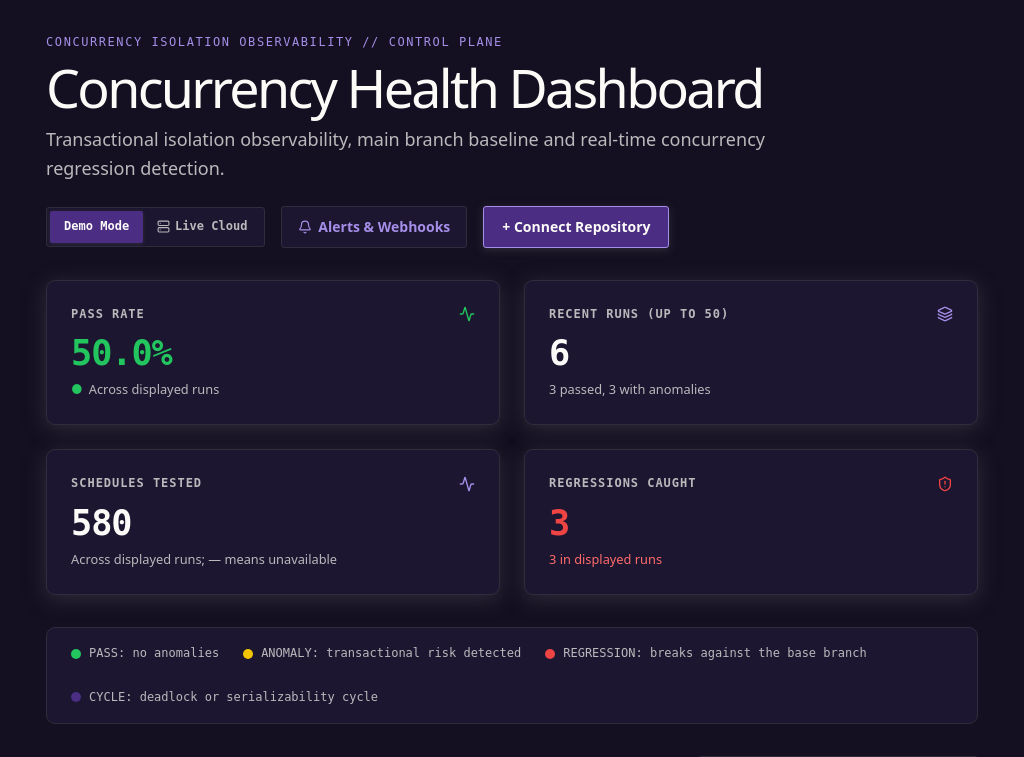
Test: live dashboard › shows HTTP 401 without retaining demo runs
Click the button "Live Cloud" at (202, 227), box left=143, top=211, right=261, bottom=243
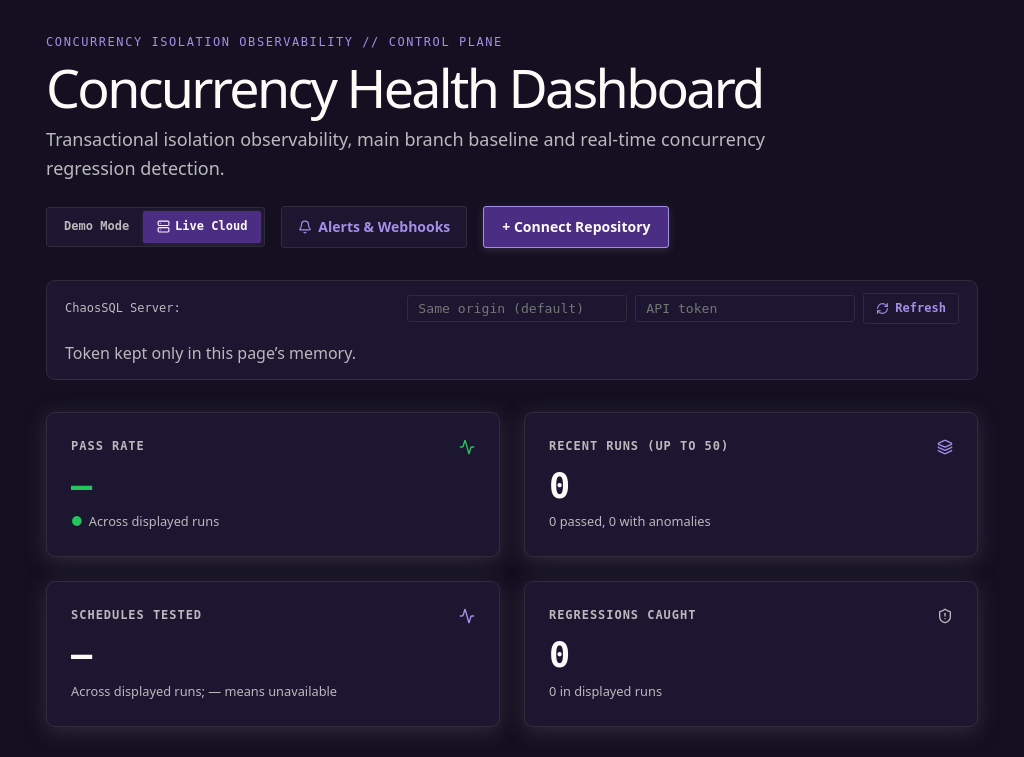
Type "token" into the password field labelled "API token" at (745, 308), box left=635, top=295, right=855, bottom=322
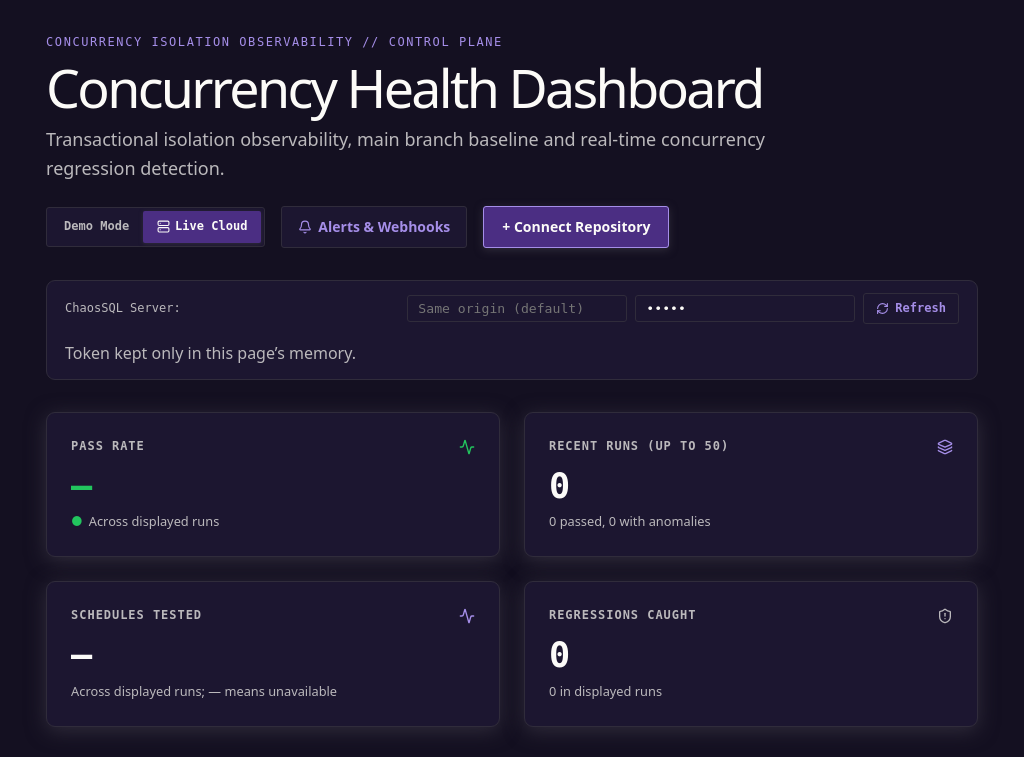
Click the button "Refresh" at (911, 308), box left=863, top=292, right=959, bottom=324
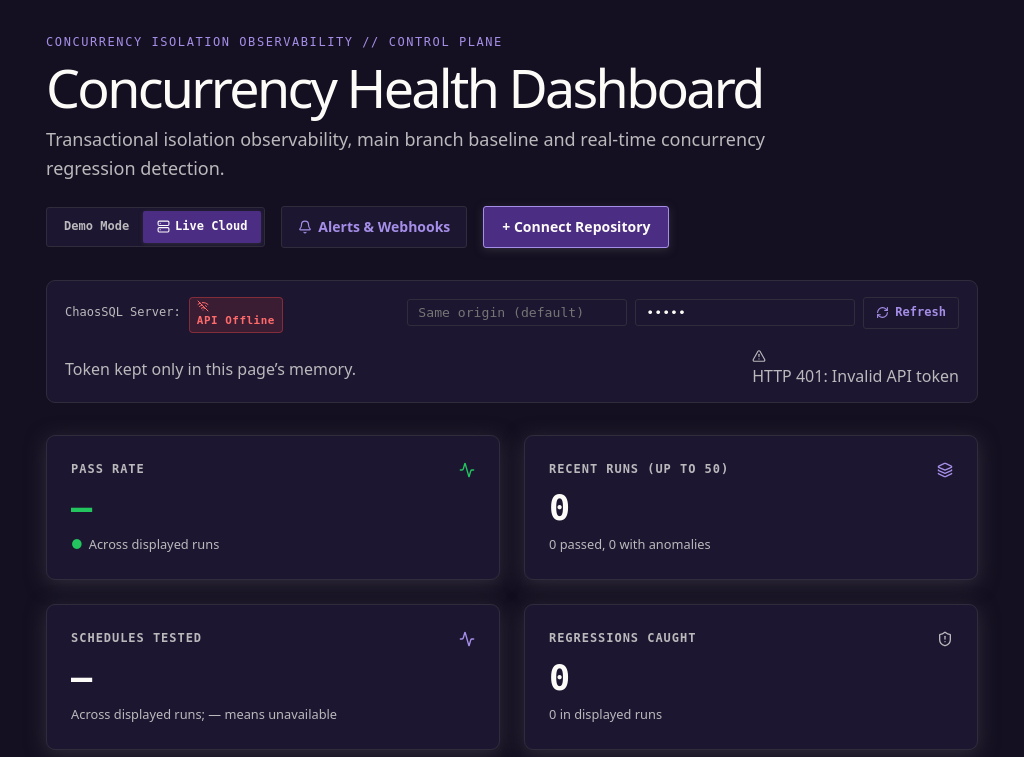
Now the message "HTTP 401: Invalid API token" is shown, box left=752, top=349, right=959, bottom=390
